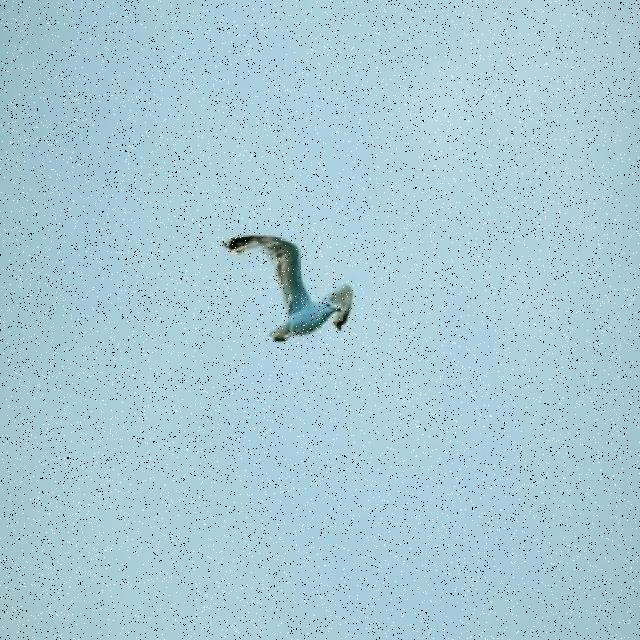bird: (223, 234, 354, 346)
